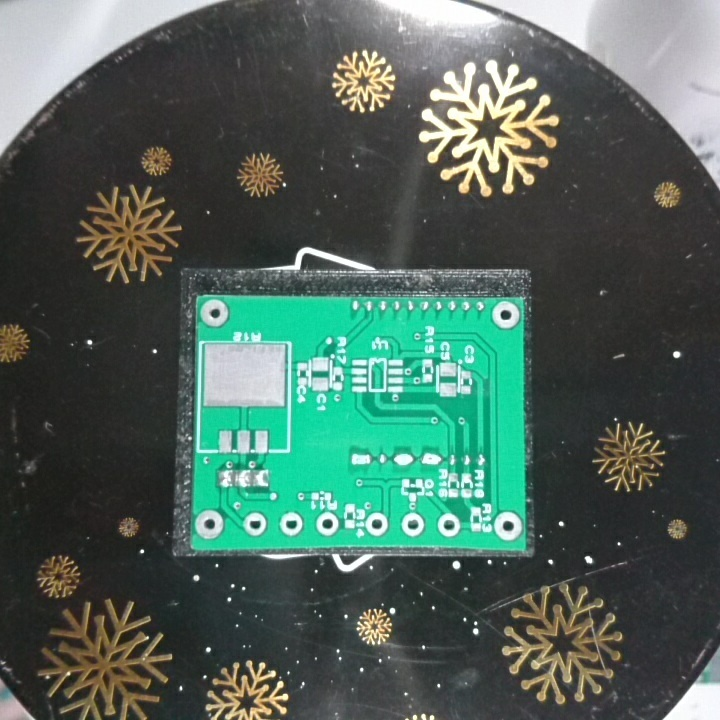F: (197, 298, 232, 329), (492, 508, 524, 541), (194, 508, 226, 540), (489, 299, 522, 330), (239, 511, 269, 538), (364, 513, 391, 539), (314, 510, 339, 538), (436, 512, 461, 540), (277, 511, 303, 537), (400, 512, 426, 538)
P: (419, 448, 444, 469), (390, 449, 416, 469), (348, 449, 372, 468)
